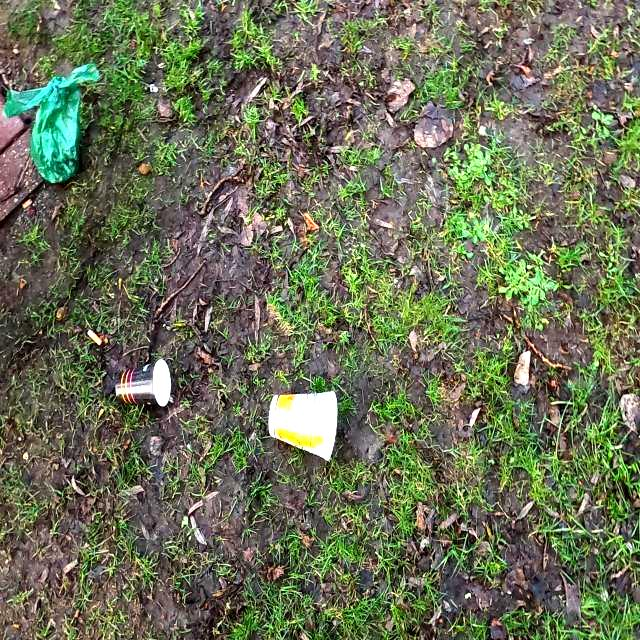Coffee Cup: (268, 390, 338, 462), (114, 357, 172, 407)
